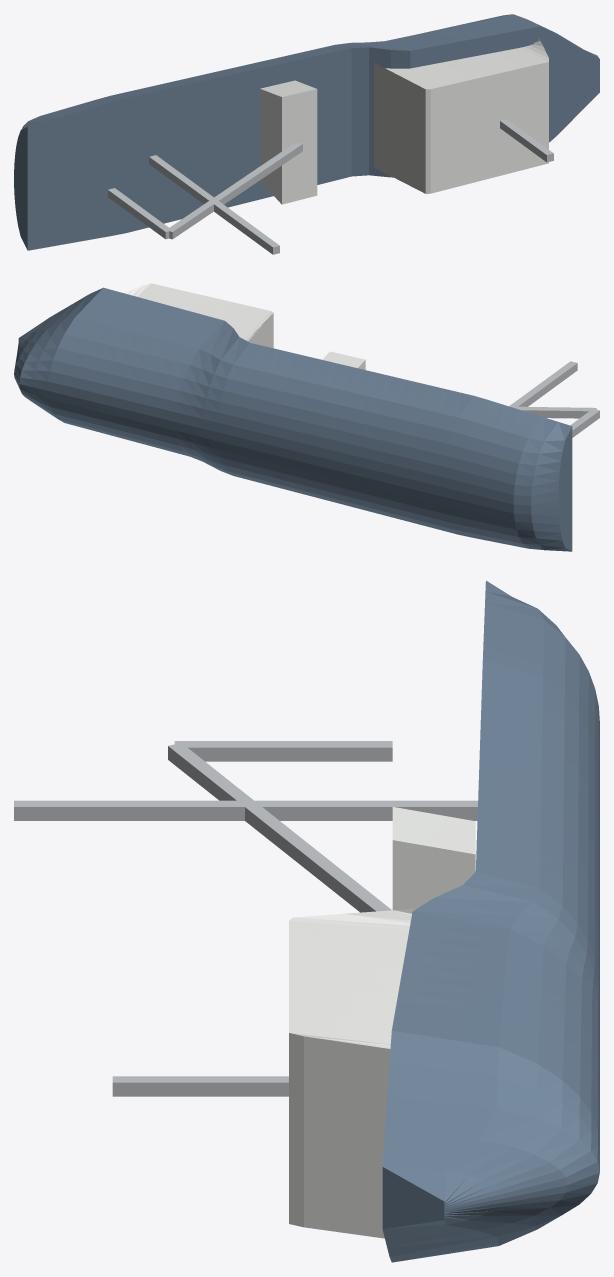
File: loft-restricted-ability.glb
The picture shows the model from 3 angles, top to bottom: view 1: azimuth 30°, elevation 25°; view 2: azimuth 150°, elevation 25°; view 3: azimuth 270°, elevation 25°; orthographic projection. The views are drawn at different scales.
Visible parts, largest first — view 1: restricted-ability; view 2: restricted-ability; view 3: restricted-ability.
Boxes of the visible parts, <box> form: restricted-ability: <box>14,14,599,254</box>; restricted-ability: <box>14,283,599,551</box>; restricted-ability: <box>14,580,599,1262</box>.
Bounding box in the file's own units: 1.9 × 0.4396 × 0.9162.
